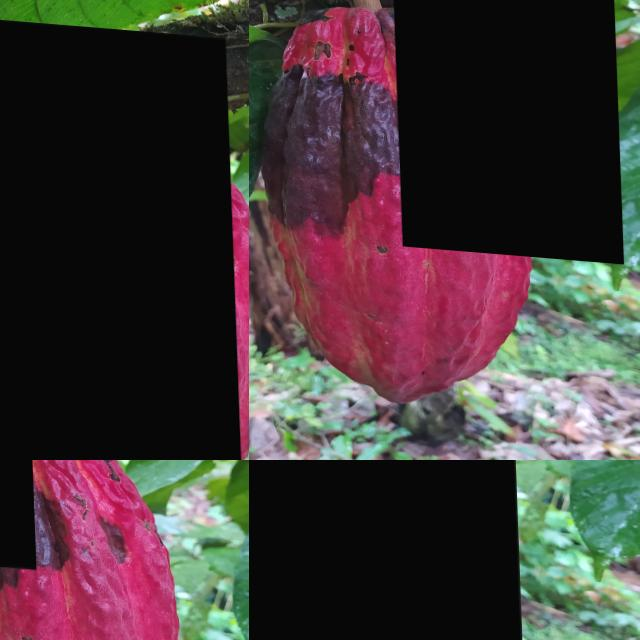Fitoftora: (0, 13, 237, 460), (390, 0, 621, 255), (249, 460, 520, 640)
